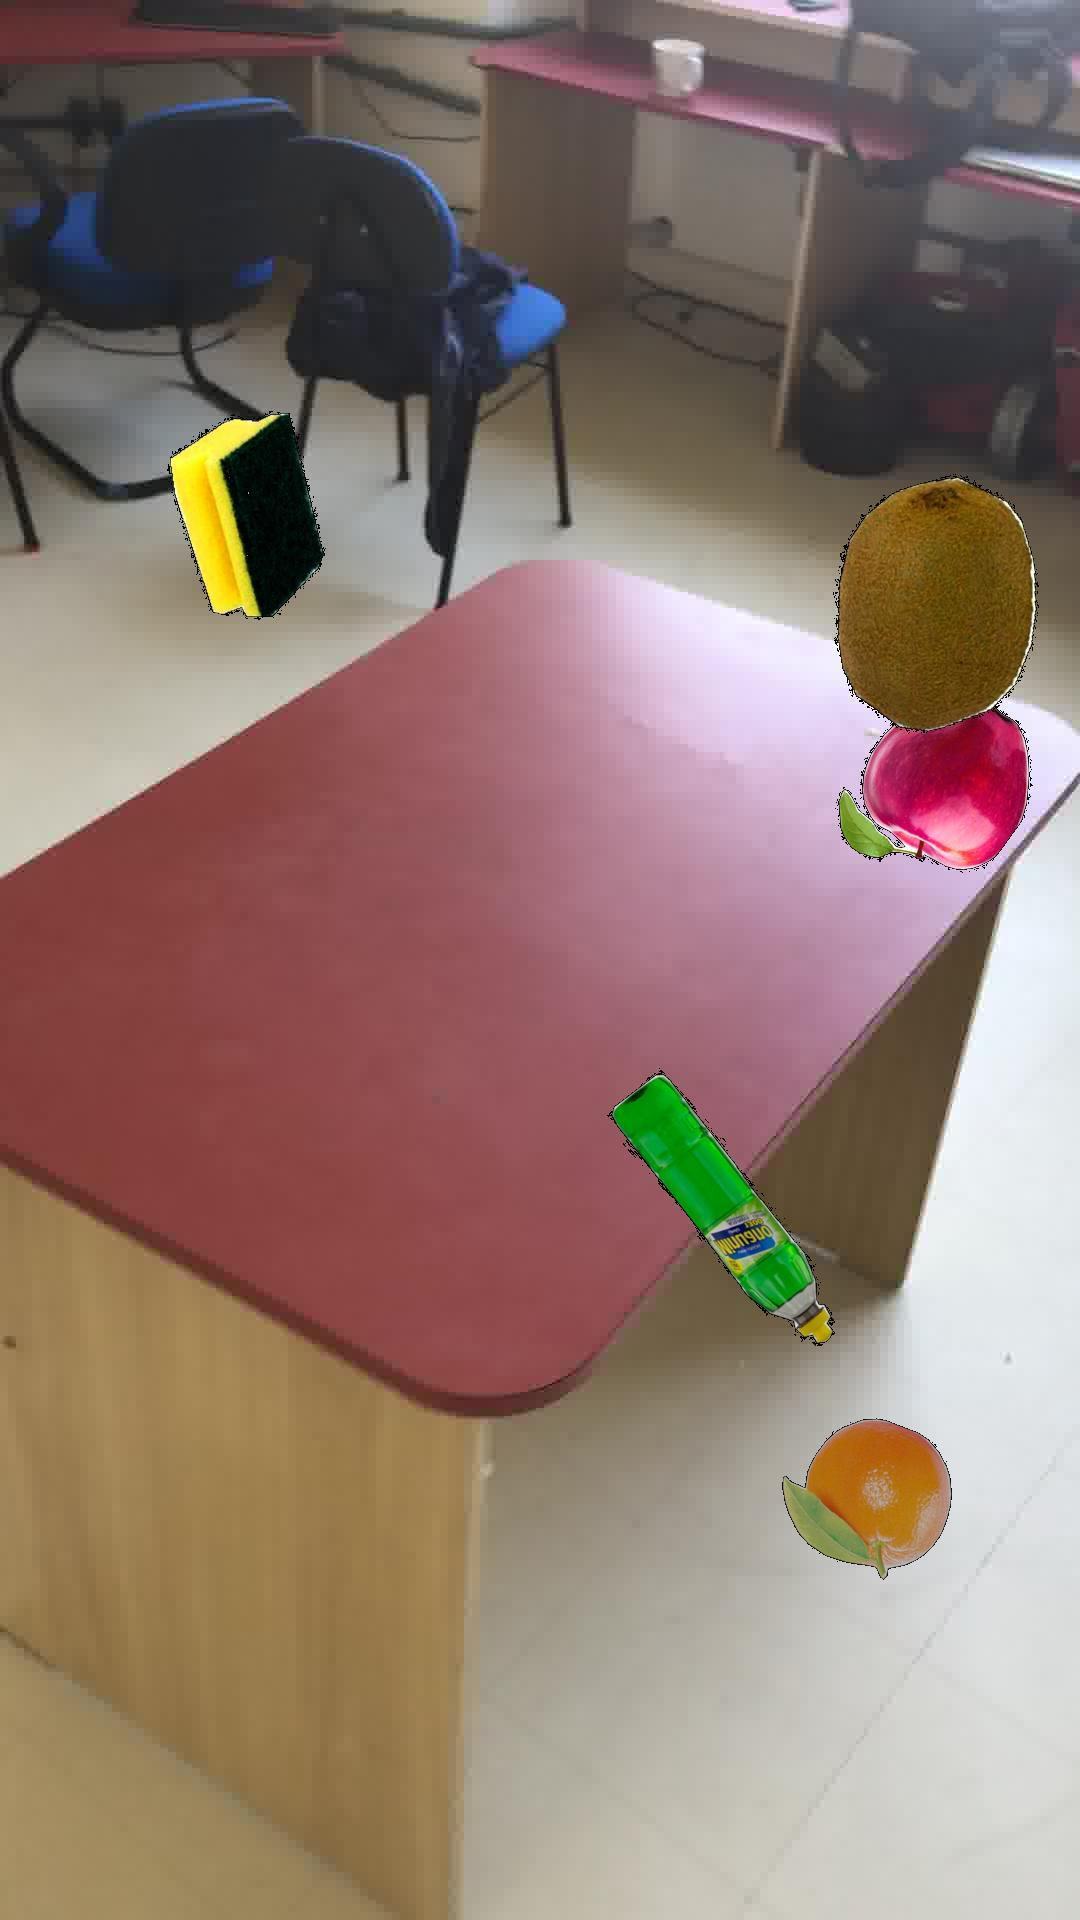apple: (836, 707, 1029, 869)
cleaner: (605, 1068, 833, 1345)
kiwi: (832, 475, 1038, 732)
orange: (781, 1416, 949, 1578)
sponge: (166, 410, 323, 618)
